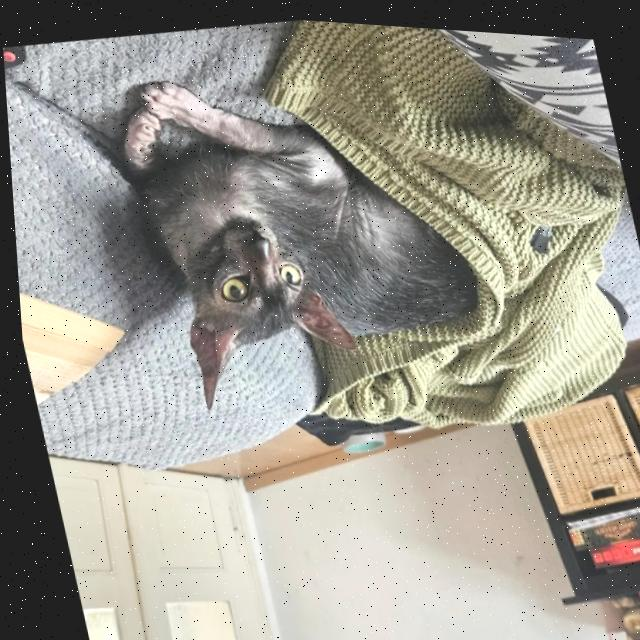Lykoi: (93, 28, 500, 434)
